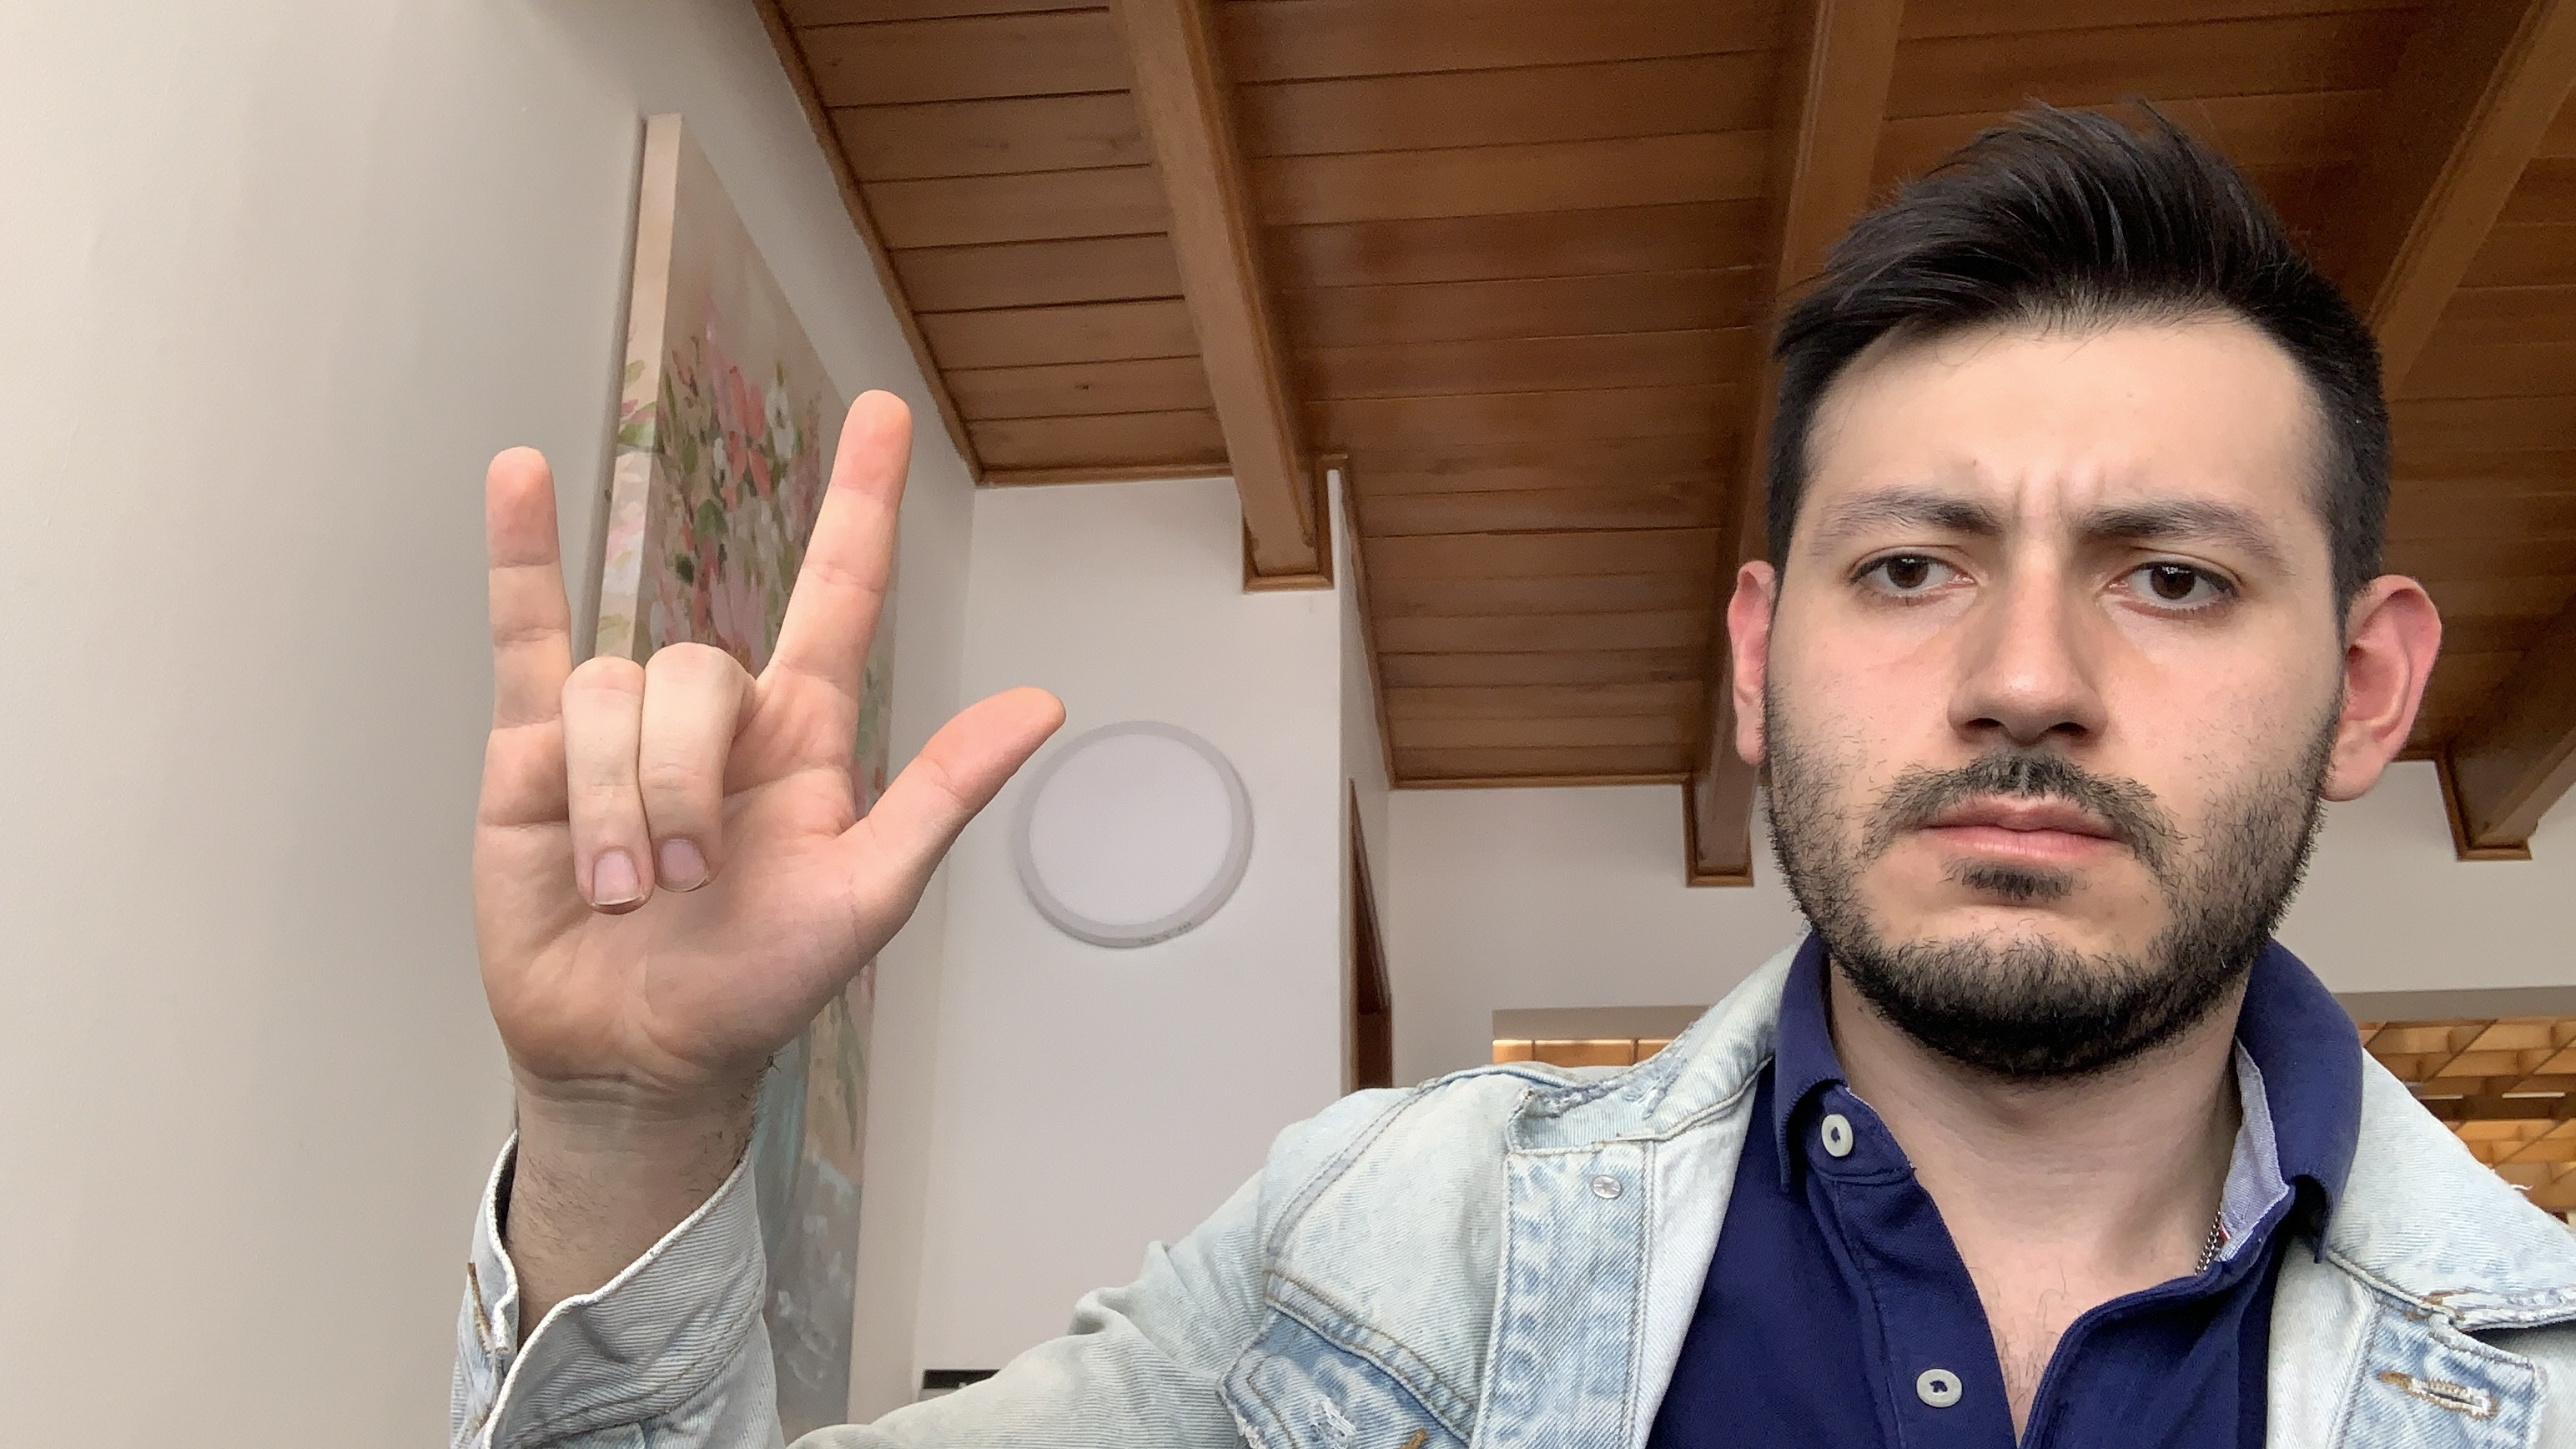I Love You: (462, 379, 1099, 1116)
